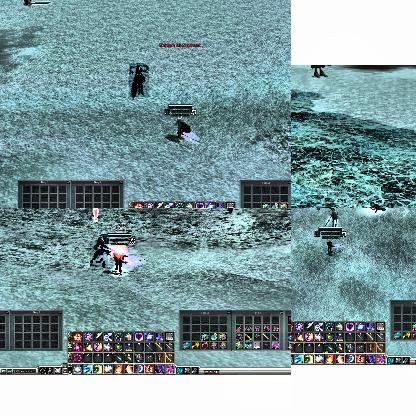caliana: (129, 63, 149, 97), (90, 242, 108, 268), (326, 210, 340, 226)
